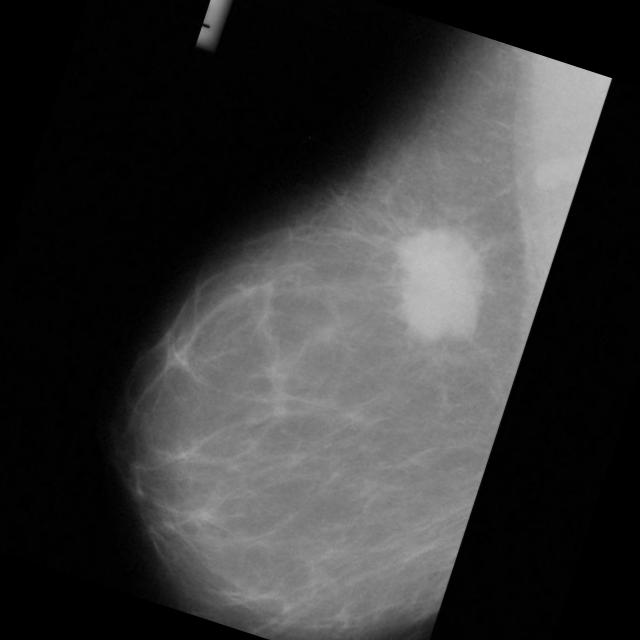SPIC: (347, 195, 526, 374)
